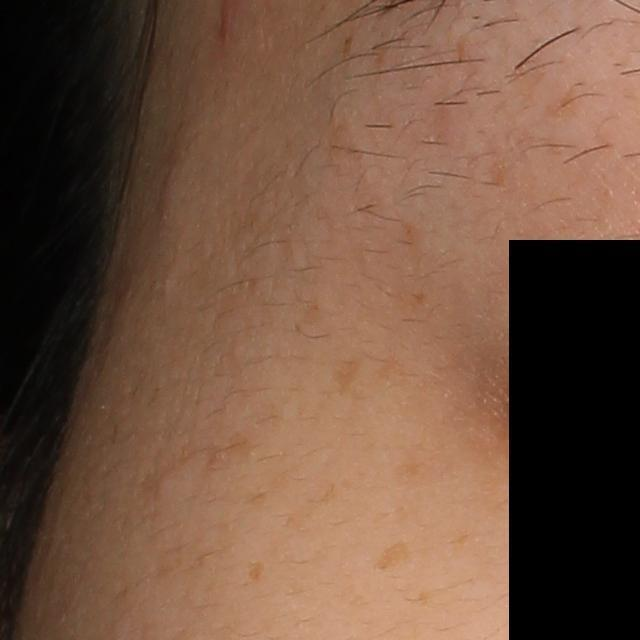melasma: (283, 478, 343, 530), (370, 537, 421, 574), (329, 355, 363, 398), (243, 557, 266, 588)
